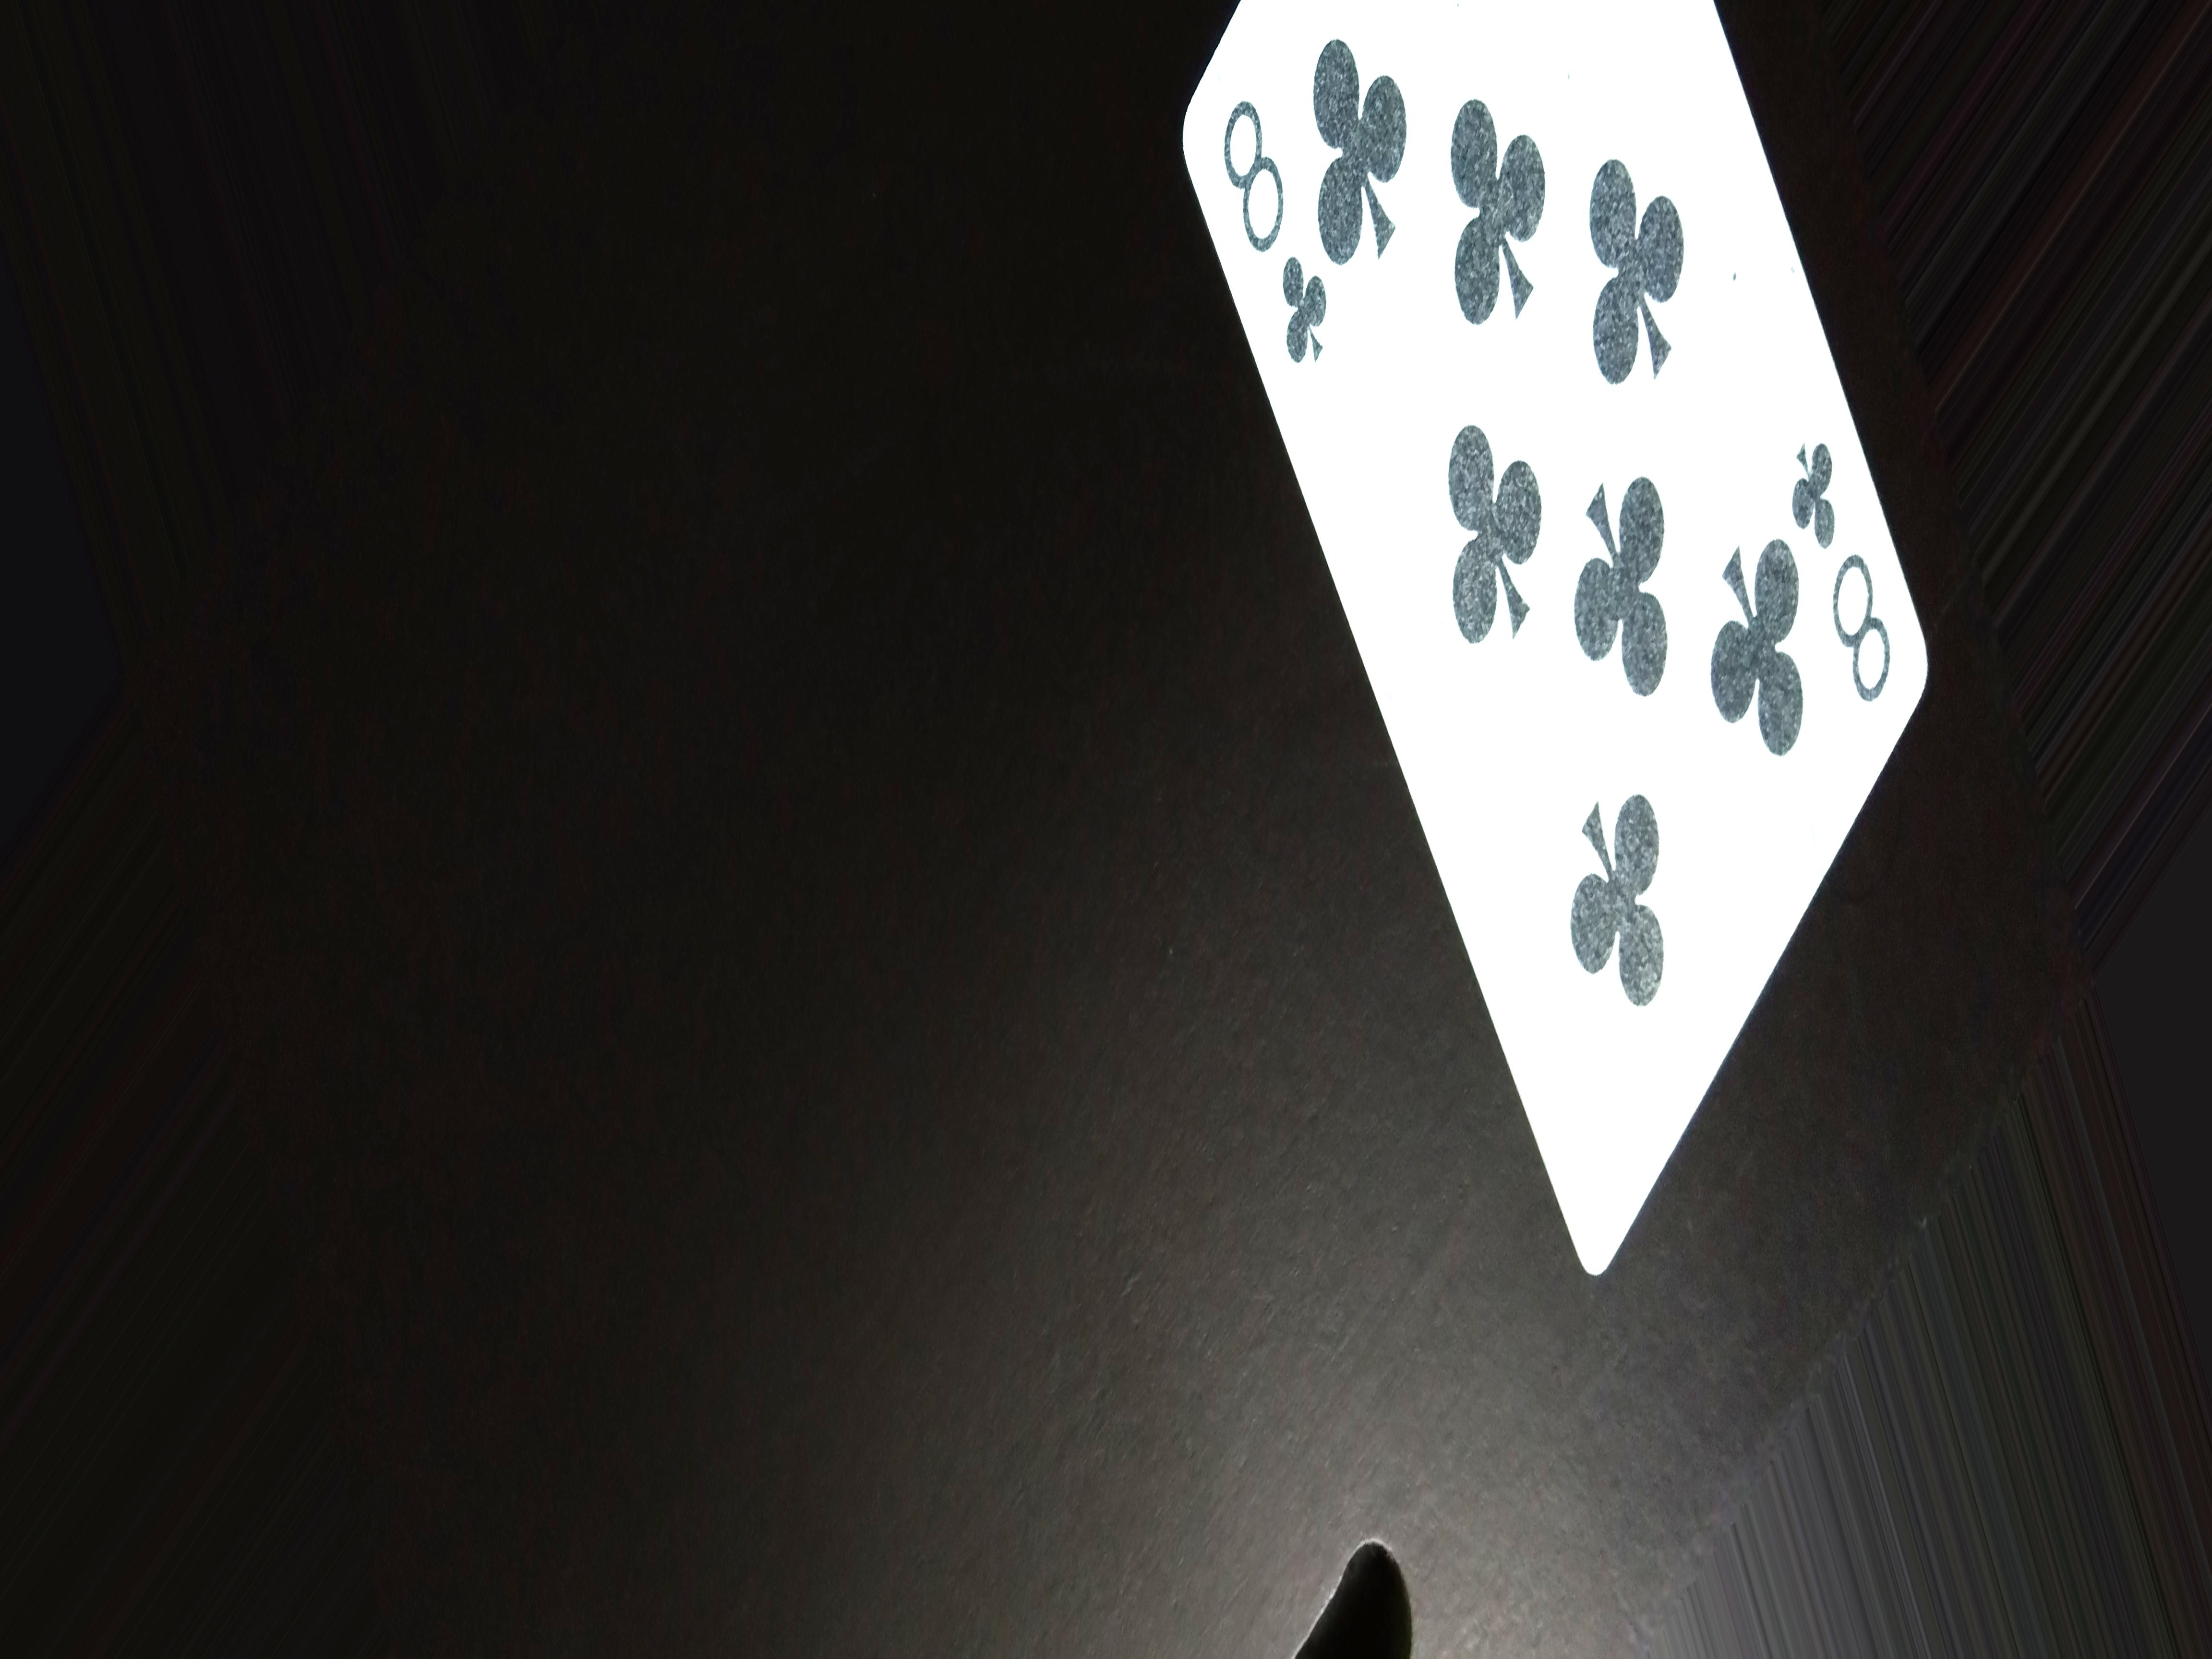8C: (1212, 92, 1362, 410)
